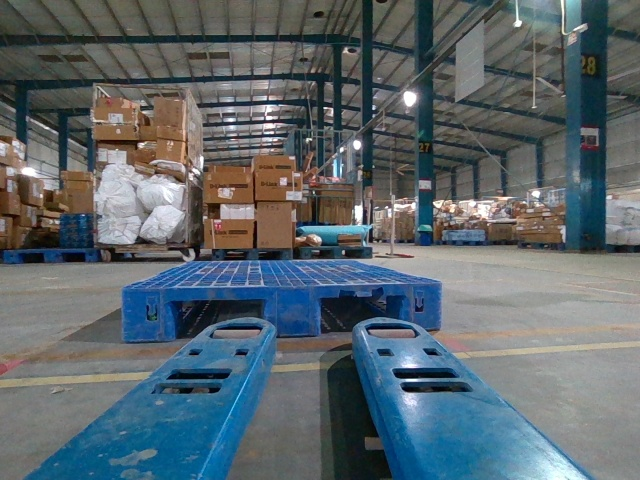block: (262, 286, 322, 334), (124, 286, 170, 340), (399, 281, 444, 333)
front: (122, 281, 441, 341)
hole pallet: (315, 289, 409, 338), (169, 294, 270, 339)
